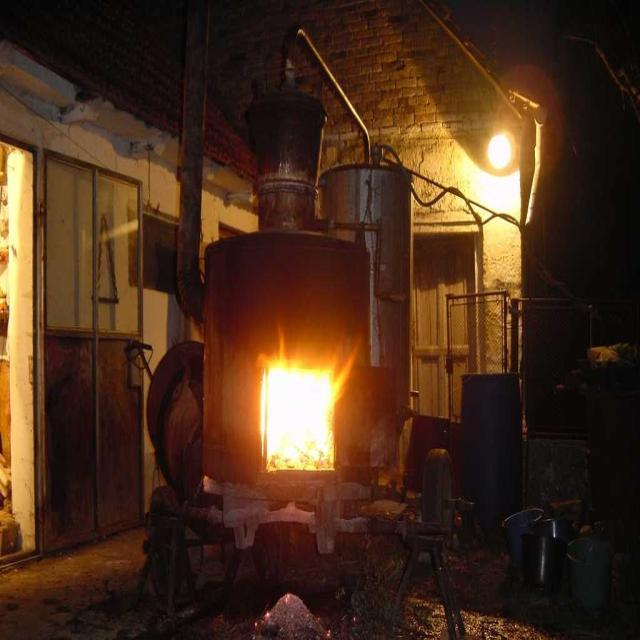Fire: (260, 360, 340, 474)
